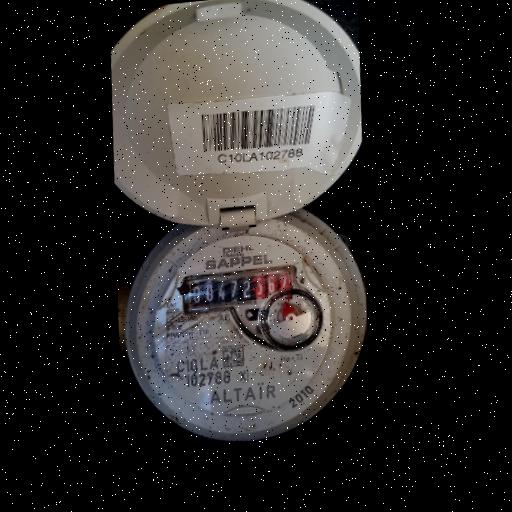0: (202, 280, 218, 306), (189, 282, 205, 307)
2: (239, 275, 254, 302)
4: (214, 278, 230, 304)
5: (251, 275, 268, 300)
6: (264, 273, 280, 297)
7: (226, 277, 242, 303), (276, 270, 294, 291)
border_water_meter_number: (183, 266, 296, 312)
